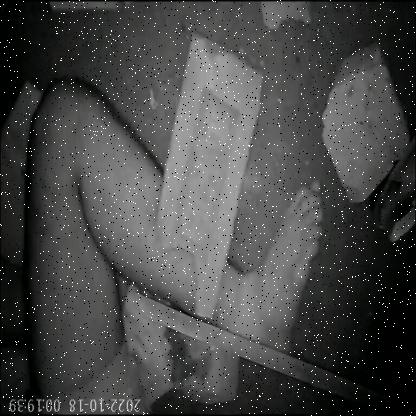leg: (17, 66, 328, 411)
